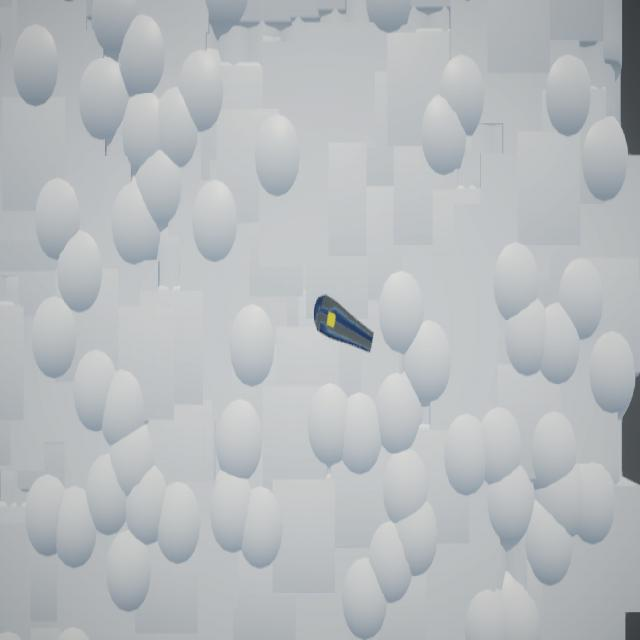handle_knife: (315, 296, 375, 354)
